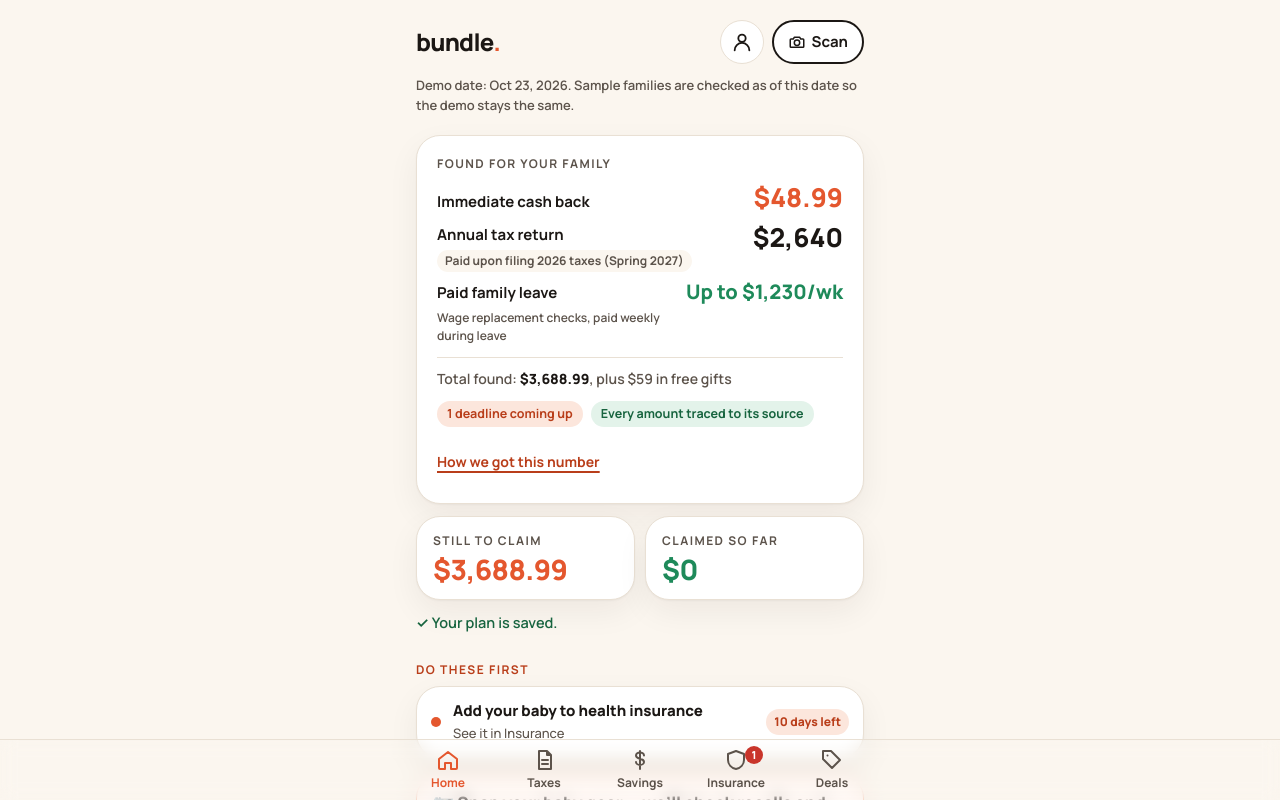
Test: Insurance tab follows the insurance answer › job: pill and deadline
Click the button "Insurance 1" at {"x": 736, "y": 770}, box [688, 740, 784, 799]
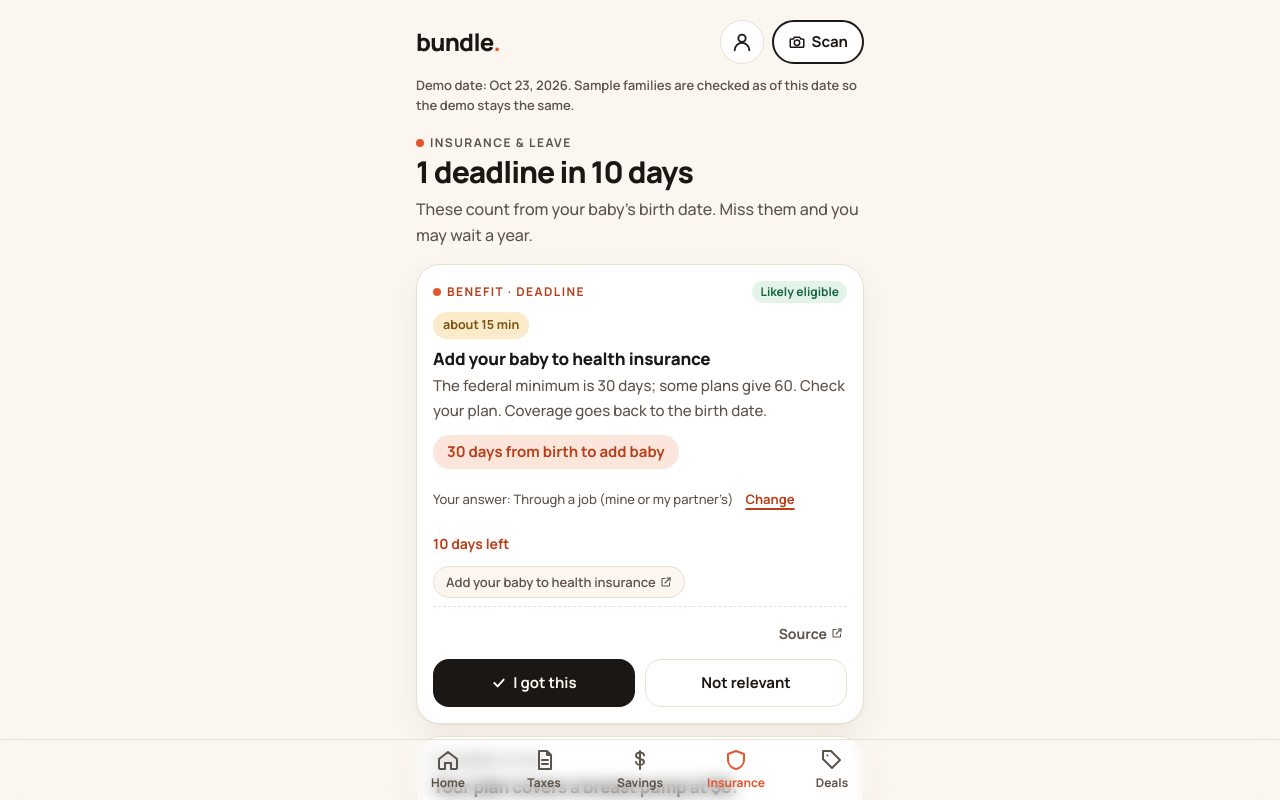
Check: the text "10 days left" is shown, box [433, 533, 509, 554]
Check: the text with test id "countdown-pill" reads "30 days from birth to add baby", box [447, 441, 665, 462]
Check: the element named "Add your baby to health insurance" shows "Your answer:", box [433, 490, 513, 508]
